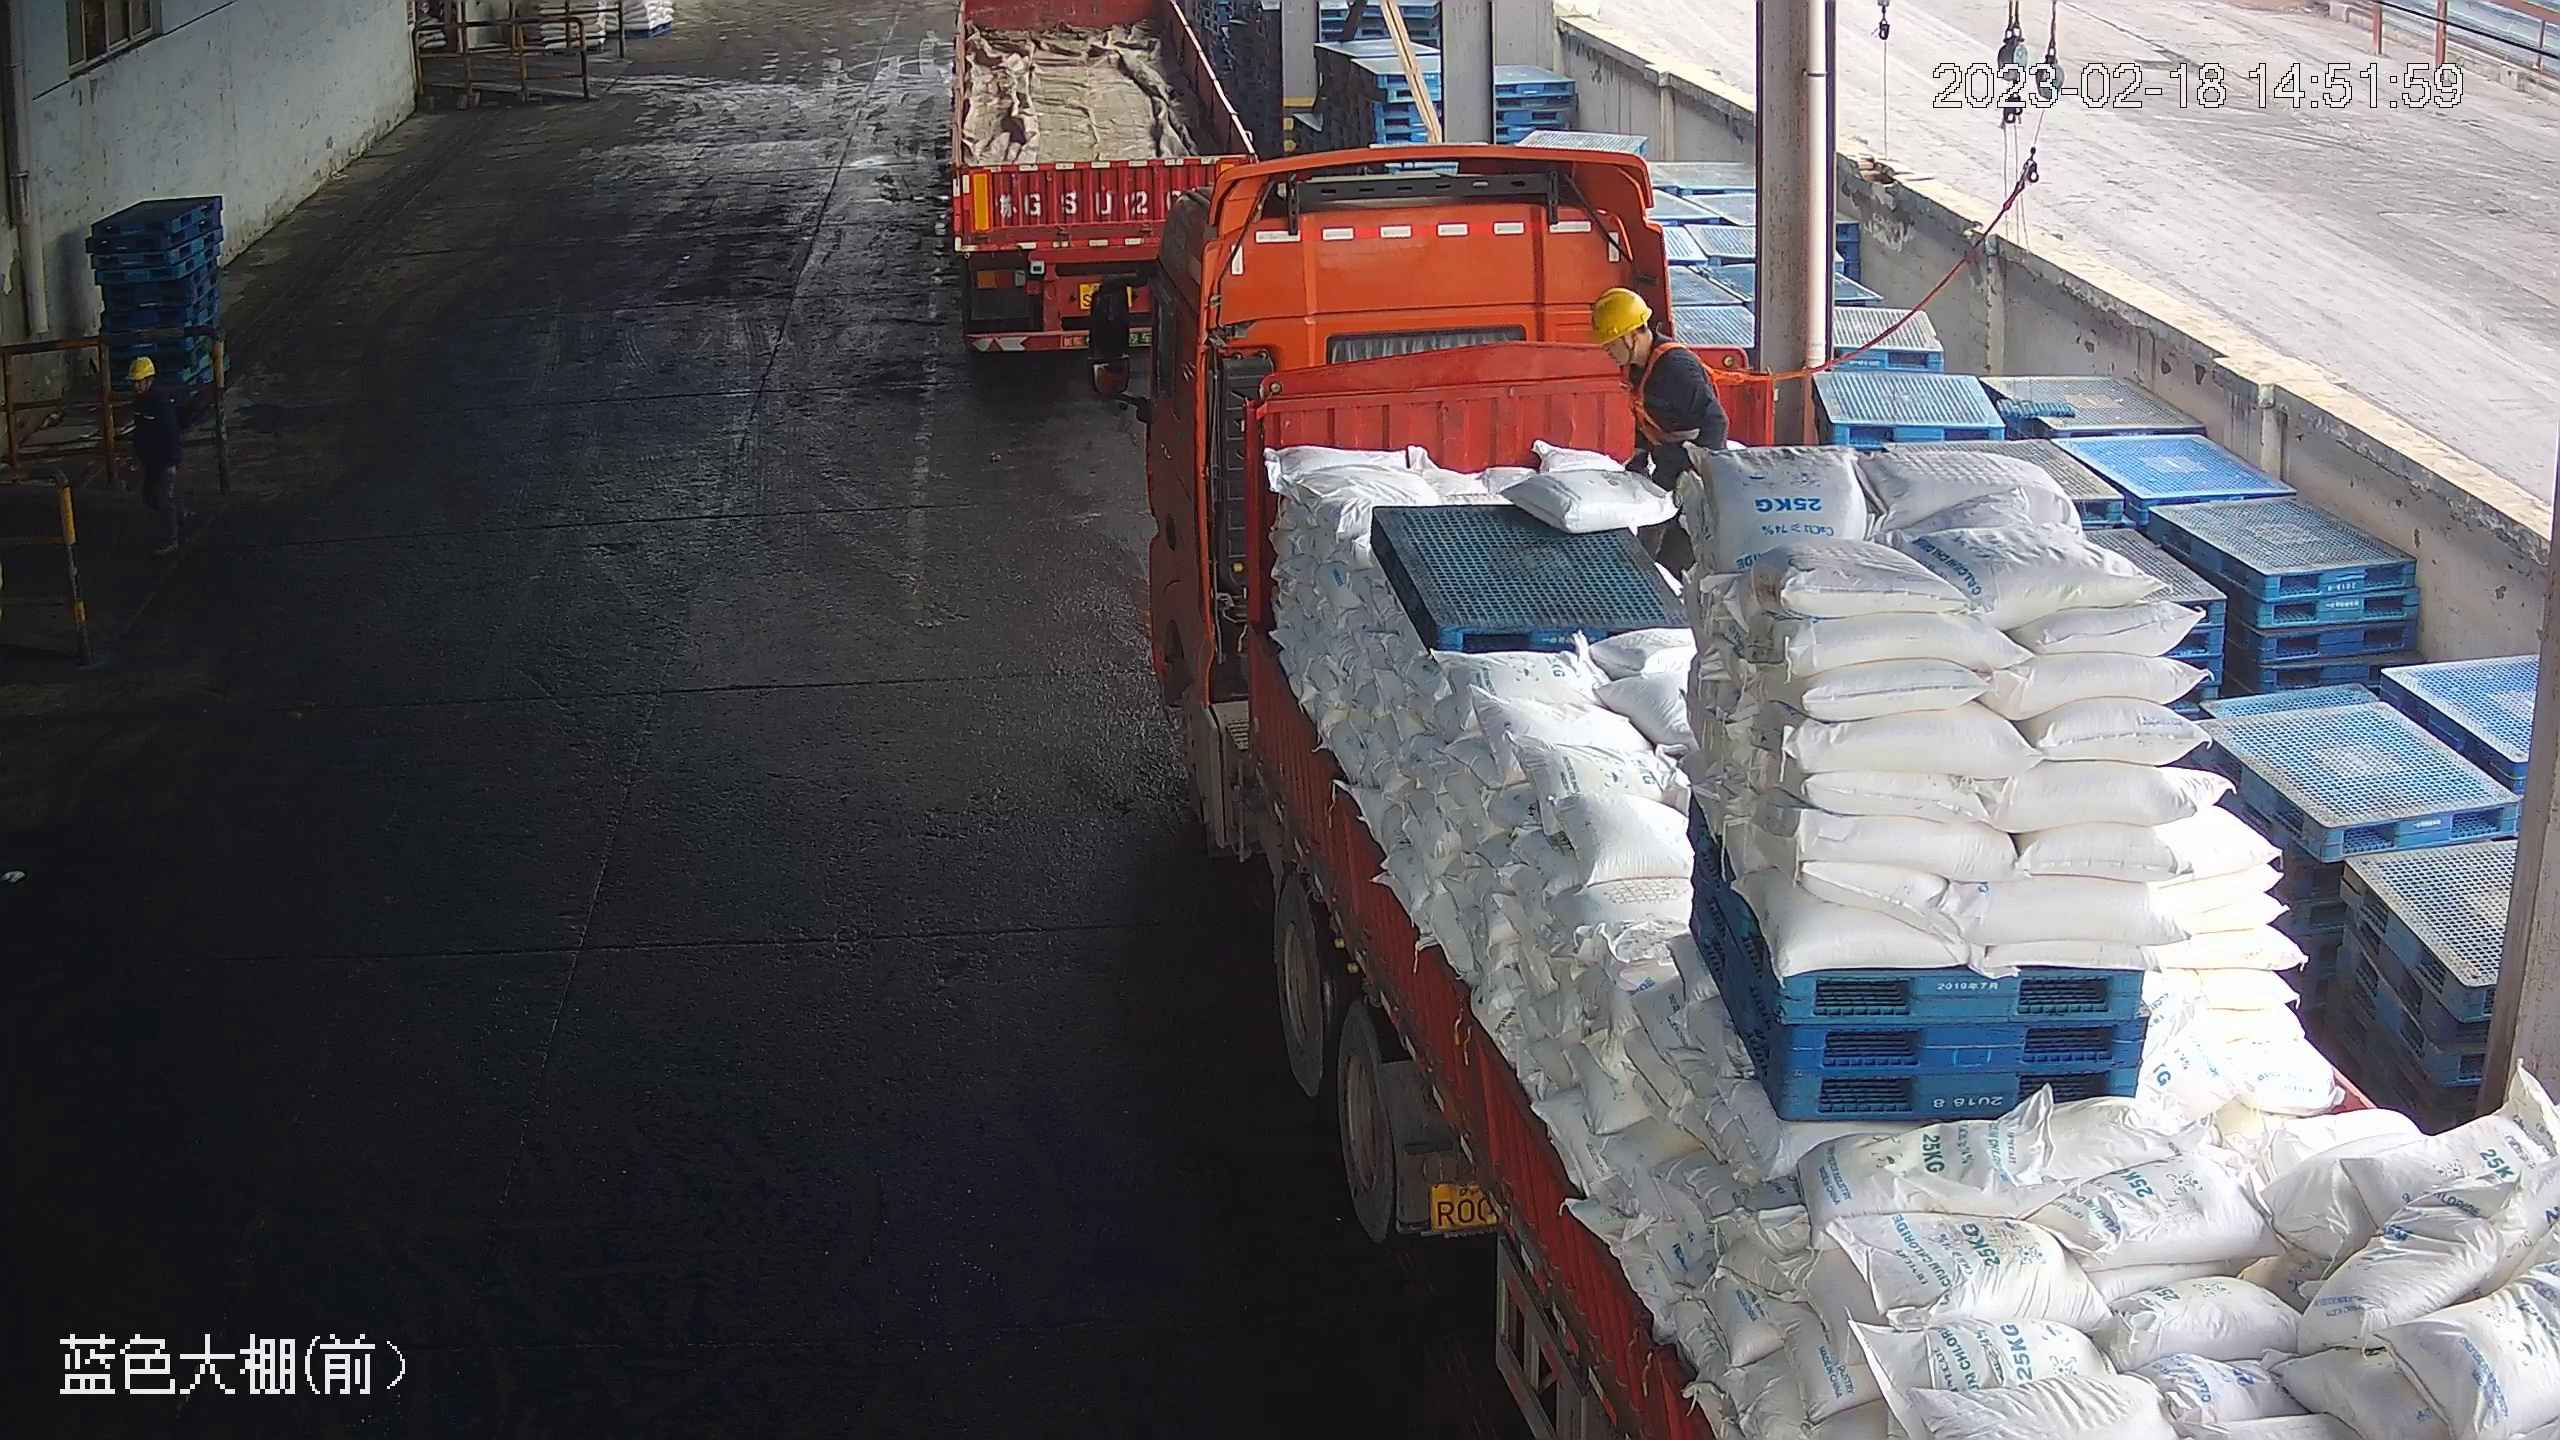belt: (1630, 345, 1715, 441)
head: (1587, 285, 1709, 392), (124, 354, 180, 426)
helmet: (1586, 283, 1652, 344), (127, 353, 157, 378)
people: (1587, 283, 1731, 590), (122, 351, 184, 550)
truck: (1069, 165, 2556, 1440), (944, 6, 1298, 384)
